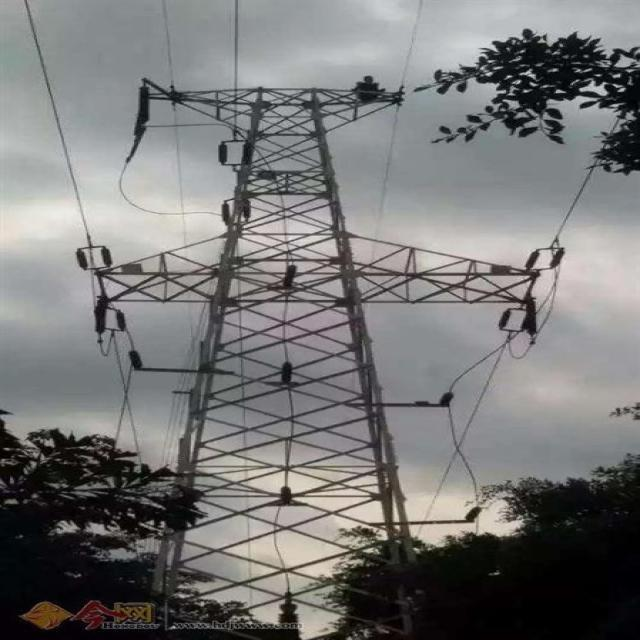non-critical vegetation: (90, 78, 503, 620)
